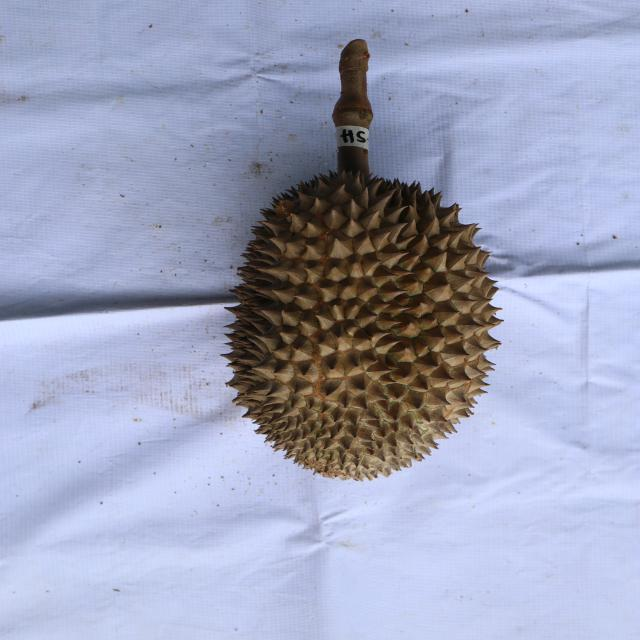mature: (224, 172, 506, 480)
